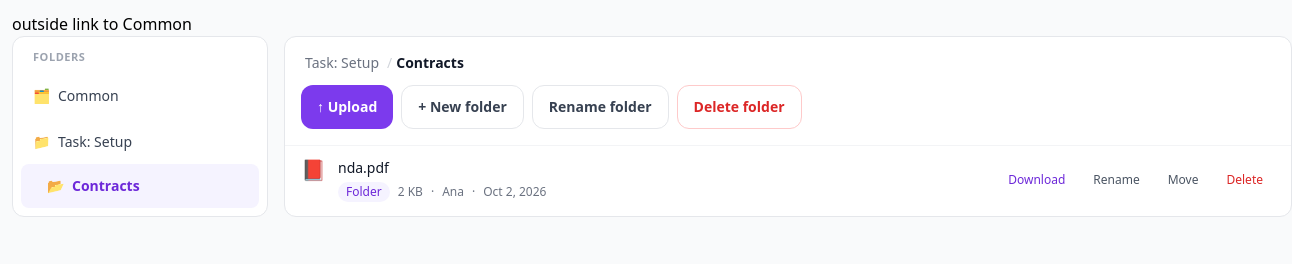
Scenario: ProjectFilesTab › explains that a folder must be empty when its delete is refused
This screenshot has width=1292, height=264.
Expected: the text "nda.pdf" is shown, [338, 158, 389, 177]
Click the button "Delete folder": (739, 107) [676, 85, 802, 129]
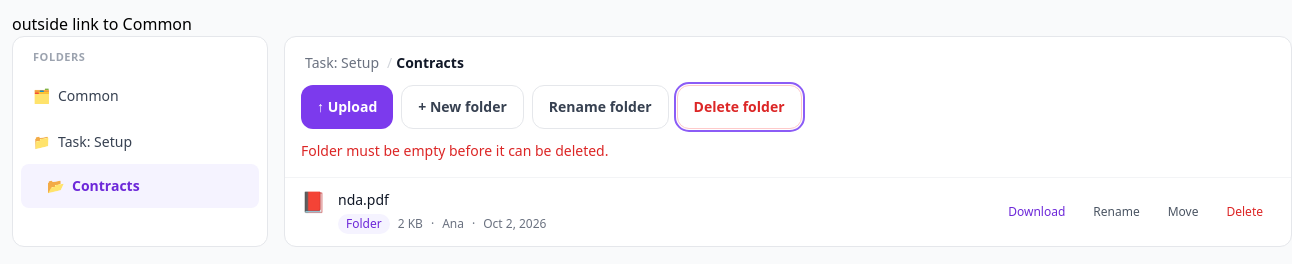
Now the text "Folder must be empty before it can be deleted." is shown, box [301, 141, 608, 160]
